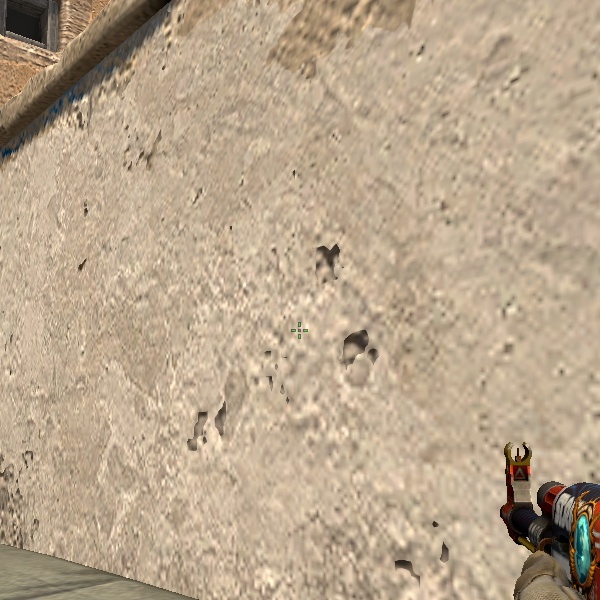t_body: (496, 471, 592, 600)
